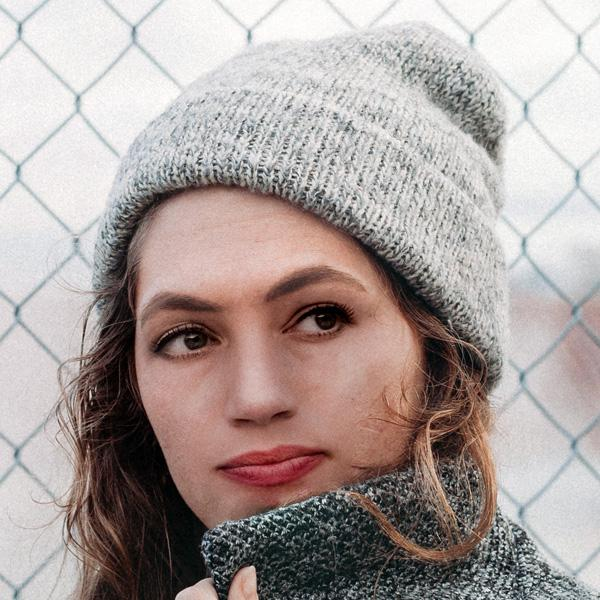Eyes: (142, 316, 228, 365), (275, 295, 361, 343)
